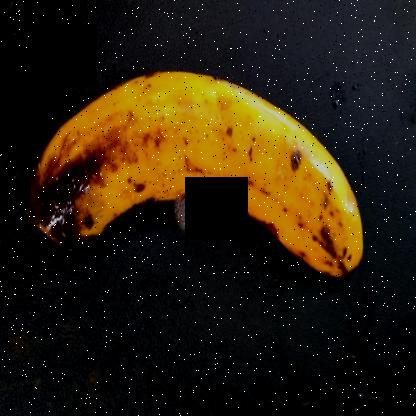overripe: (136, 53, 376, 286)
rotten: (12, 68, 182, 260)
